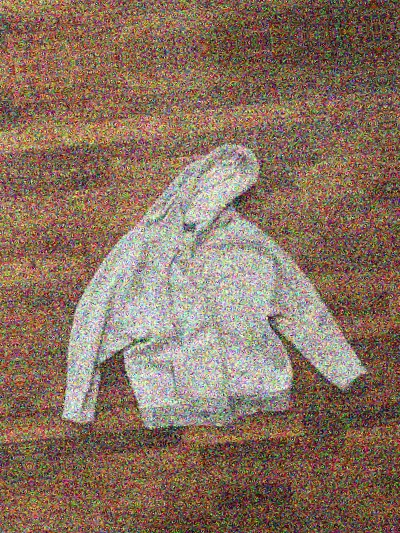Hoodie: (0, 91, 400, 468), (0, 134, 29, 512), (0, 0, 354, 12), (400, 43, 400, 421)
